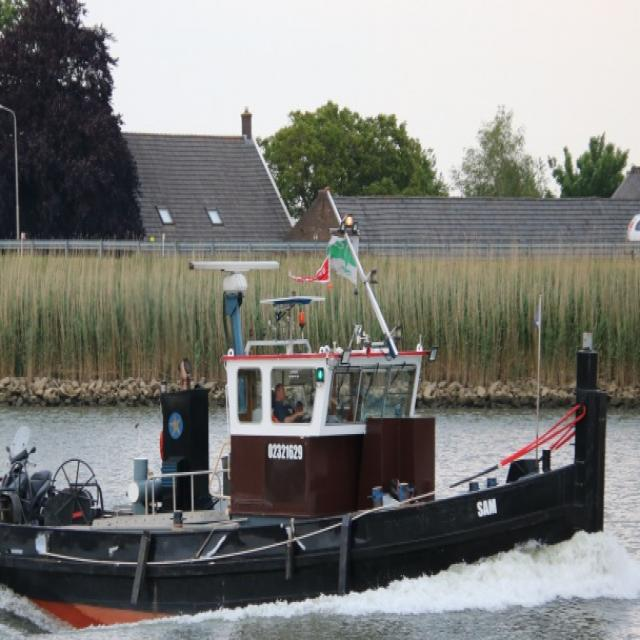tugboat: (1, 251, 618, 640)
